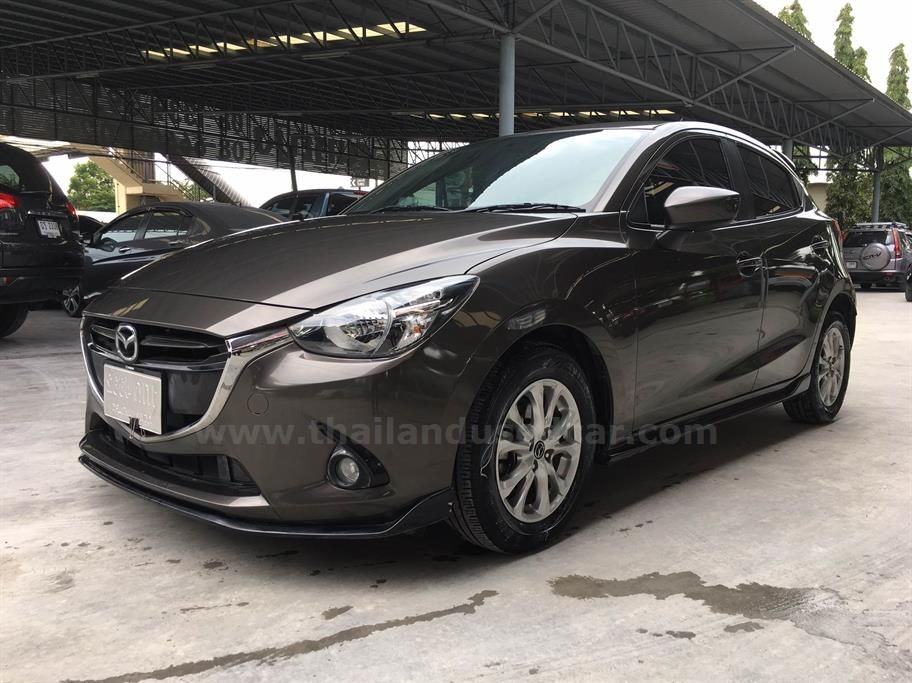sedan: (69, 113, 862, 557)
